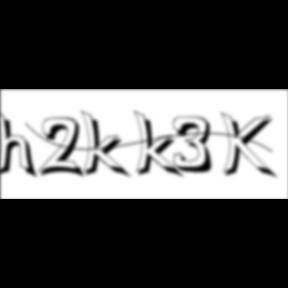2: (39, 117, 89, 181)
3: (174, 116, 220, 176)
K: (220, 110, 280, 182)
h: (0, 108, 40, 182)
k: (80, 108, 134, 181), (134, 108, 186, 181)
